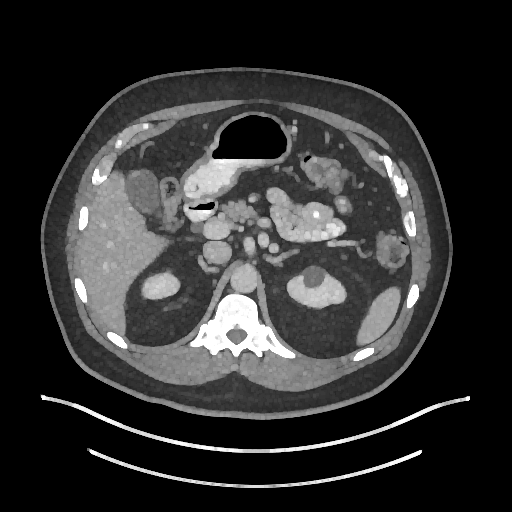Lesion: (298, 263, 329, 291)
